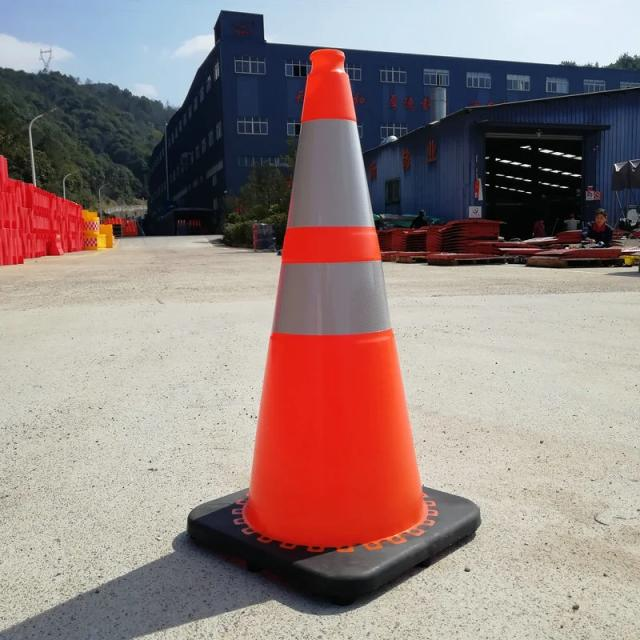Traffic Cone: (128, 30, 554, 624)
